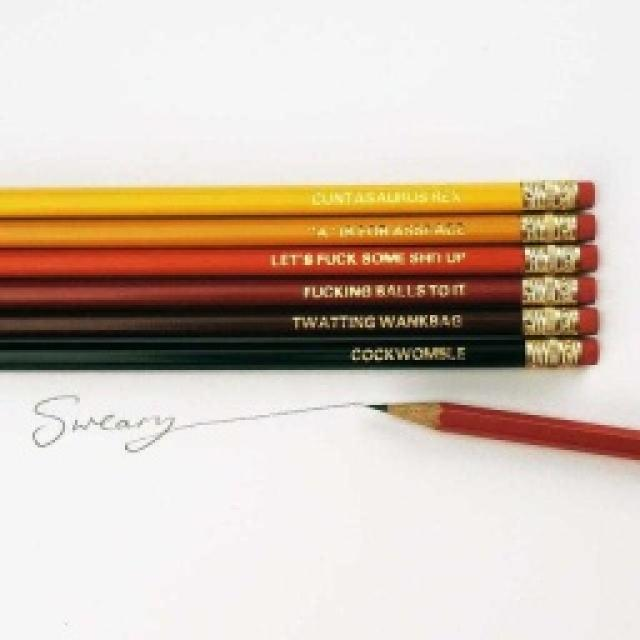pencil: (0, 175, 602, 372)
